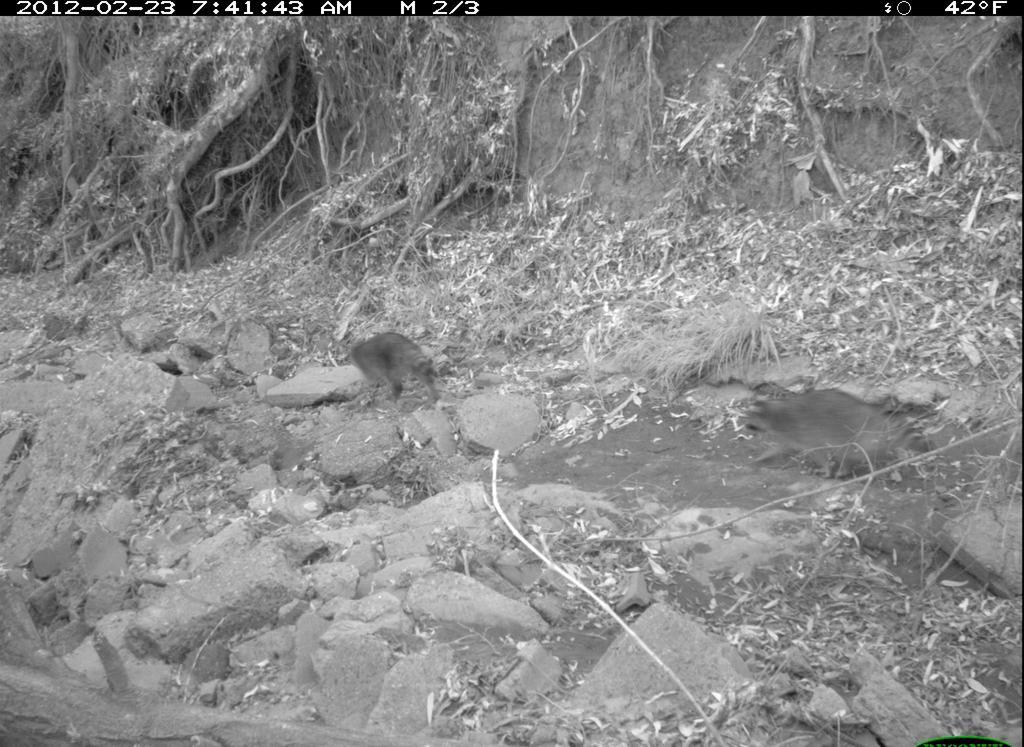raccoon: (733, 377, 944, 486), (346, 323, 456, 415)
